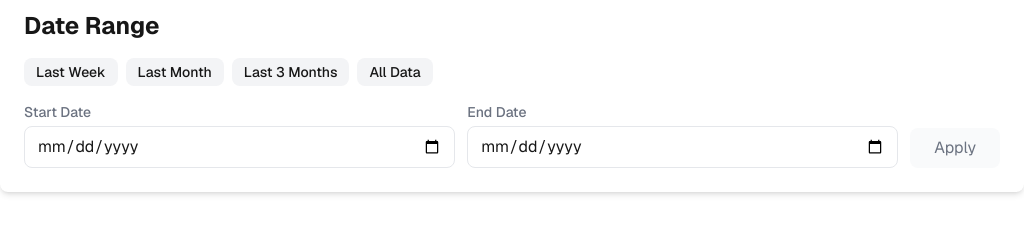
Test case: DateRangePicker › adjusts end date when start date is after end date
Note: Set end date first
Type "2024-01-15" into the date field labelled "End Date" at {"x": 683, "y": 147}, box [467,126,898,168]
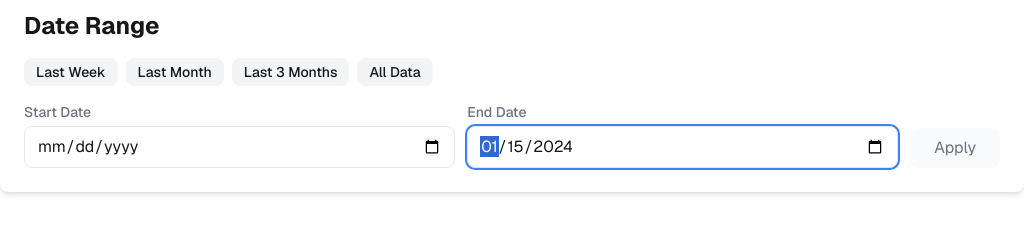
Note: Set start date after end date
Type "2024-01-20" into the date field labelled "Start Date" at {"x": 240, "y": 147}, box [24,126,455,168]
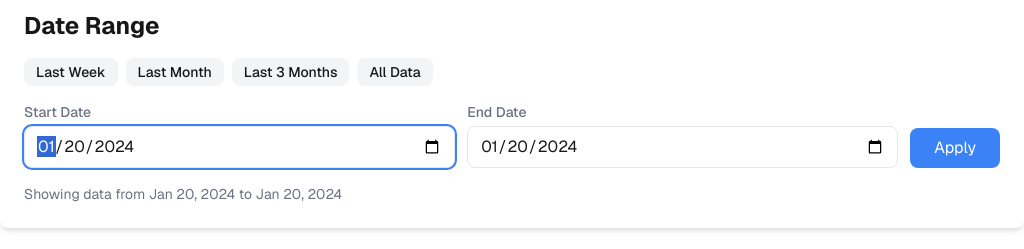
Result: the date field labelled "End Date" holds "2024-01-20" at [467,126,898,168]
